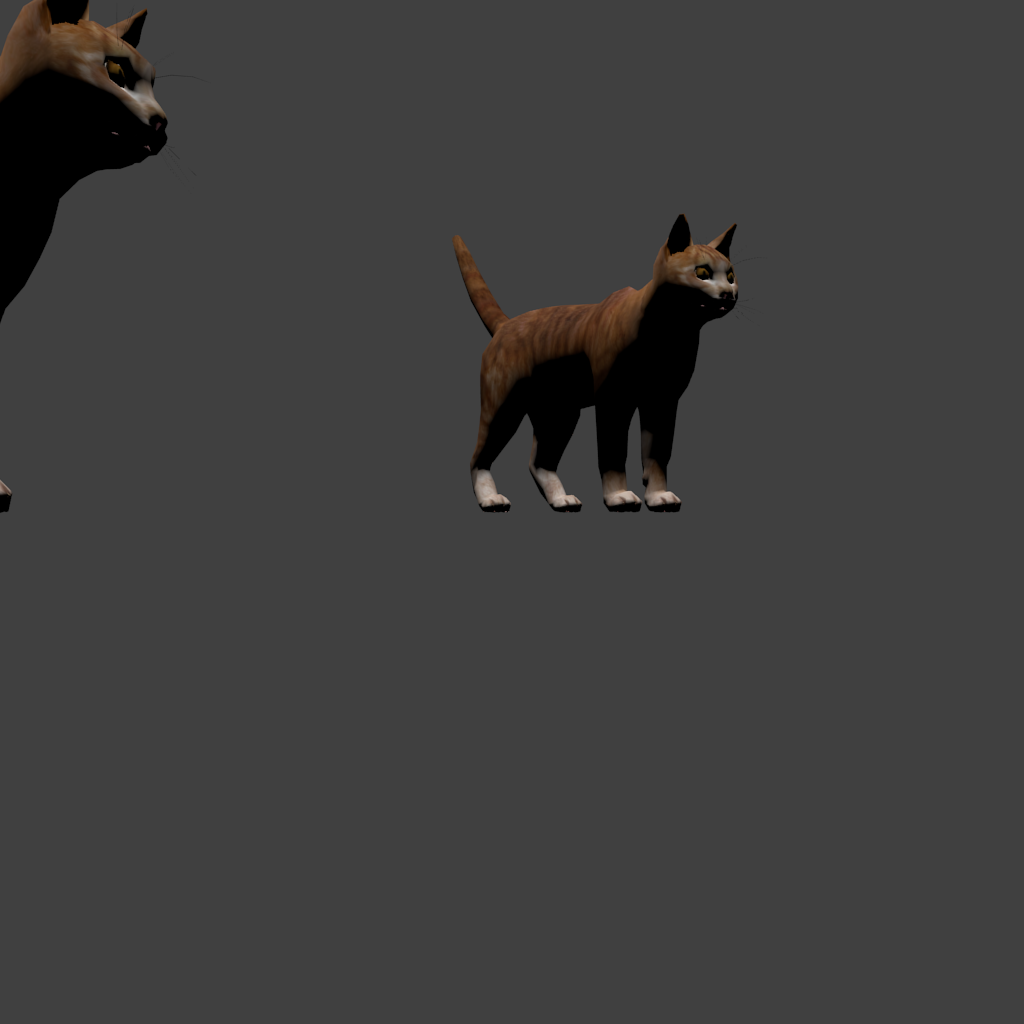Cat: (0, 0, 215, 514)
